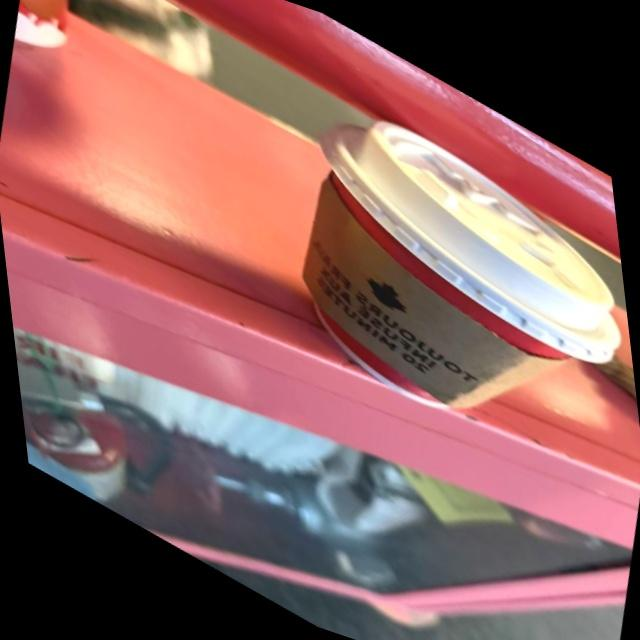Timmies: (257, 58, 640, 528)
